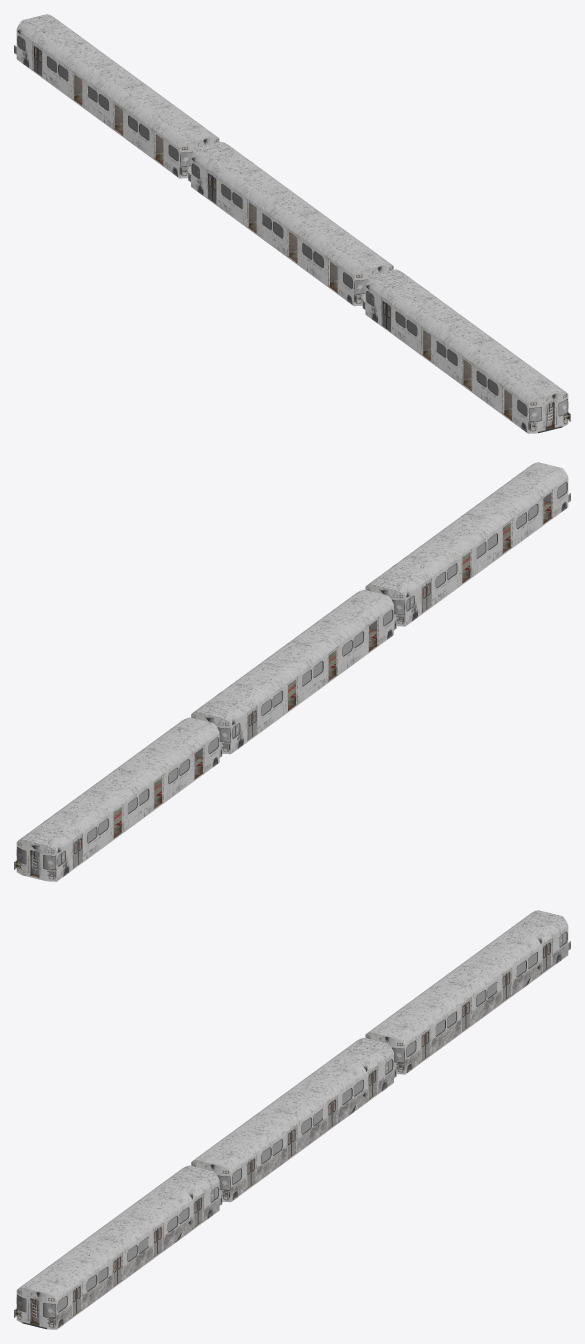
File: train.glb
3 views of the same model, one above another, from view 1: azimuth 30°, elevation 25°; view 2: azimuth 150°, elevation 25°; view 3: azimuth 330°, elevation 25° (orthographic).
Parts seen in each view (by area): view 1: LT_Body_c0, LT_Body_c2, LT_Body_c1, LT_windows_c0, LT_windows_c2, LT_windows_c1; view 2: LT_Body_c2, LT_Body_c0, LT_Body_c1, LT_windows_c2, LT_windows_c1, LT_windows_c0; view 3: LT_Body_c0, LT_Body_c1, LT_Body_c2, LT_windows_c0, LT_windows_c2, LT_windows_c1.
Boxes of the visible parts, x1,y1,x2,y2 form: LT_Body_c0: (365, 269, 568, 433); LT_Body_c2: (16, 14, 219, 178); LT_Body_c1: (191, 141, 393, 306); LT_windows_c0: (367, 291, 567, 421); LT_windows_c2: (18, 36, 192, 166); LT_windows_c1: (192, 164, 366, 293); LT_Body_c2: (16, 717, 219, 881); LT_Body_c0: (365, 462, 568, 626); LT_Body_c1: (191, 589, 393, 754); LT_windows_c2: (17, 738, 217, 869); LT_windows_c1: (218, 610, 392, 741); LT_windows_c0: (392, 482, 566, 614); LT_Body_c0: (16, 1165, 219, 1329); LT_Body_c1: (191, 1037, 393, 1202); LT_Body_c2: (365, 910, 568, 1074); LT_windows_c0: (17, 1187, 217, 1317); LT_windows_c2: (392, 932, 566, 1062); LT_windows_c1: (218, 1060, 392, 1189).
Size of the model in its own units: 2.92 by 2.47 by 64.65.
Materials: 10 (9 with a texture image).
